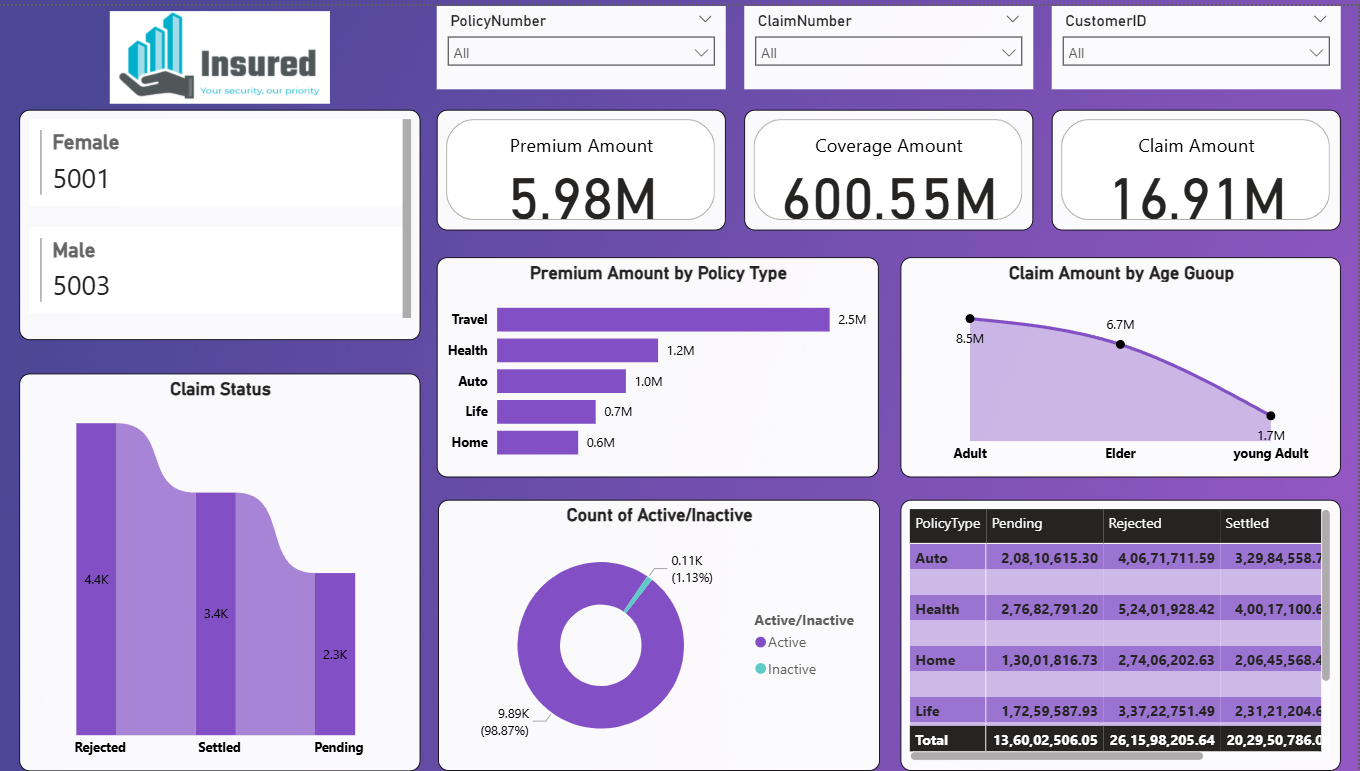

What the dashboard file says about the page in this screenshot:
{"tool":"powerbi","page":{"name":"Page 1","canvas":[1280,720],"ordinal":0},"visuals":[{"type":"slicer","fields":{"Values":["InsuranceData.PolicyNumber"]},"box":[413,0,271.7,78.2],"z":0},{"type":"slicer","fields":{"Values":["InsuranceData.ClaimNumber"]},"box":[702.6,0,271.7,78.2],"z":1000},{"type":"slicer","fields":{"Values":["InsuranceData.CustomerID"]},"box":[992.1,0,271.7,78.2],"z":2000},{"type":"cardVisual","fields":{"Data":["Sum(InsuranceData.PremiumAmount)"]},"box":[413,97.4,271.7,113.9],"z":4000},{"type":"cardVisual","fields":{"Data":["Sum(InsuranceData.CoverageAmount)"]},"box":[702.6,97.4,271.7,113.9],"z":5000},{"type":"cardVisual","fields":{"Data":["Sum(InsuranceData.ClaimAmount)"]},"box":[992.1,97.4,271.7,113.9],"z":6000},{"type":"multiRowCard","fields":{"Values":["InsuranceData.Gender","CountNonNull(InsuranceData.Gender)"]},"box":[20.6,97.4,377.4,216.8],"z":7000},{"type":"ribbonChart","title":"Claim Status ","fields":{"Category":["InsuranceData.ClaimStatus"],"Y":["CountNonNull(InsuranceData.ClaimStatus)"]},"box":[20.6,345.8,377.4,374.6],"z":8000},{"type":"barChart","title":"Premium Amount by Policy Type","fields":{"Category":["InsuranceData.PolicyType"],"Y":["Sum(InsuranceData.PremiumAmount)"]},"box":[413,236,415.8,207.2],"z":9000},{"type":"lineChart","title":" Claim Amount by Age Guoup","fields":{"Category":["InsuranceData.Age Guoup"],"Y":["Sum(InsuranceData.ClaimAmount)"]},"box":[849.4,236,414.4,207.2],"z":10000},{"type":"donutChart","title":"Count of Active/Inactive ","fields":{"Category":["InsuranceData.Active/Inactive"],"Y":["CountNonNull(InsuranceData.Active/Inactive)"]},"box":[414.4,465.2,415.8,255.2],"z":11000},{"type":"pivotTable","fields":{"Values":["Sum(InsuranceData.CoverageAmount)"],"Rows":["InsuranceData.PolicyType"],"Columns":["InsuranceData.ClaimStatus"]},"box":[849,465,414,255],"z":12000},{"type":"image","box":[58.6,0,300,97.1],"z":12001}]}

Visuals, with their boxes in screenshot pixels (x1, y1, x2, y2), scaled from the page's 1280x720 canvas onto the 1360x771 screenshot:
slicer - InsuranceData.PolicyNumber: Rect(439, 0, 727, 84)
slicer - InsuranceData.ClaimNumber: Rect(747, 0, 1035, 84)
slicer - InsuranceData.CustomerID: Rect(1054, 0, 1343, 84)
cardVisual - Sum(InsuranceData.PremiumAmount): Rect(439, 104, 727, 226)
cardVisual - Sum(InsuranceData.CoverageAmount): Rect(747, 104, 1035, 226)
cardVisual - Sum(InsuranceData.ClaimAmount): Rect(1054, 104, 1343, 226)
multiRowCard - InsuranceData.Gender x CountNonNull(InsuranceData.Gender): Rect(22, 104, 423, 336)
"Claim Status " ribbonChart: Rect(22, 370, 423, 770)
"Premium Amount by Policy Type" barChart: Rect(439, 253, 881, 475)
" Claim Amount by Age Guoup" lineChart: Rect(902, 253, 1343, 475)
"Count of Active/Inactive " donutChart: Rect(440, 498, 882, 770)
pivotTable - Sum(InsuranceData.CoverageAmount) x InsuranceData.PolicyType: Rect(902, 498, 1342, 770)
image: Rect(62, 0, 381, 104)
